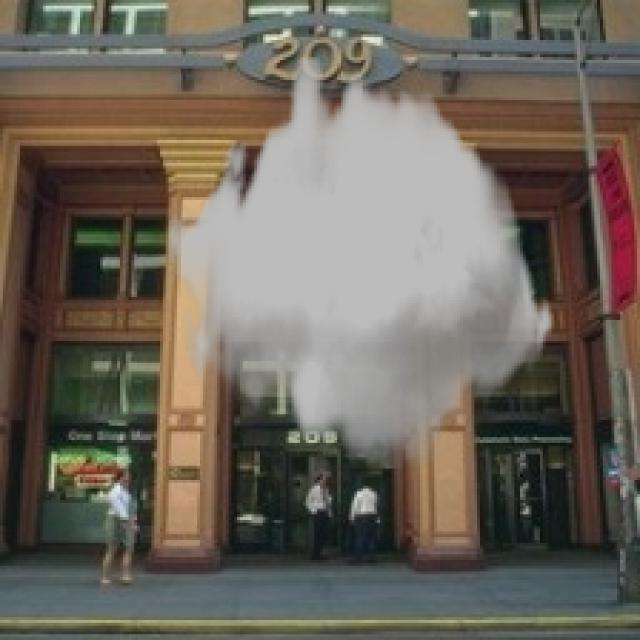Smoke: (166, 57, 554, 469)
